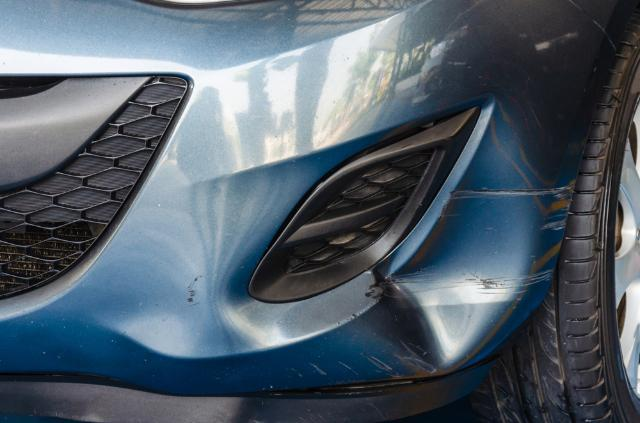dent: (394, 103, 532, 358), (93, 273, 200, 354)
scratch: (522, 179, 578, 290), (306, 345, 437, 381)
